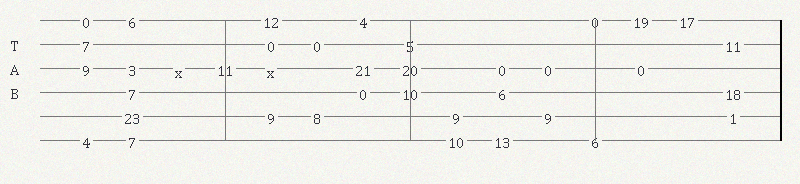0: (82, 13, 94, 27), (267, 37, 279, 51), (313, 37, 325, 51), (359, 85, 371, 99), (498, 61, 510, 75), (544, 61, 556, 75), (591, 13, 603, 27), (637, 61, 649, 75)
1: (729, 109, 741, 123)
10: (402, 85, 422, 99), (448, 133, 468, 147)
11: (217, 61, 237, 75), (725, 37, 745, 51)
12: (263, 13, 283, 27)
13: (494, 133, 514, 147)
17: (679, 13, 699, 27)
18: (725, 85, 745, 99)
19: (633, 13, 653, 27)
20: (402, 61, 422, 75)
21: (355, 61, 375, 75)
23: (124, 109, 144, 123)
3: (128, 61, 140, 75)
4: (82, 133, 94, 147), (359, 13, 371, 27)
5: (406, 37, 418, 52)
6: (128, 13, 140, 27), (498, 85, 510, 99), (591, 133, 603, 147)
7: (82, 37, 94, 51), (128, 85, 140, 99), (128, 133, 140, 147)
8: (313, 109, 325, 123)
9: (82, 61, 94, 75), (267, 109, 279, 123), (452, 109, 464, 123), (544, 109, 556, 123)
x: (175, 63, 186, 74), (267, 63, 278, 74)
